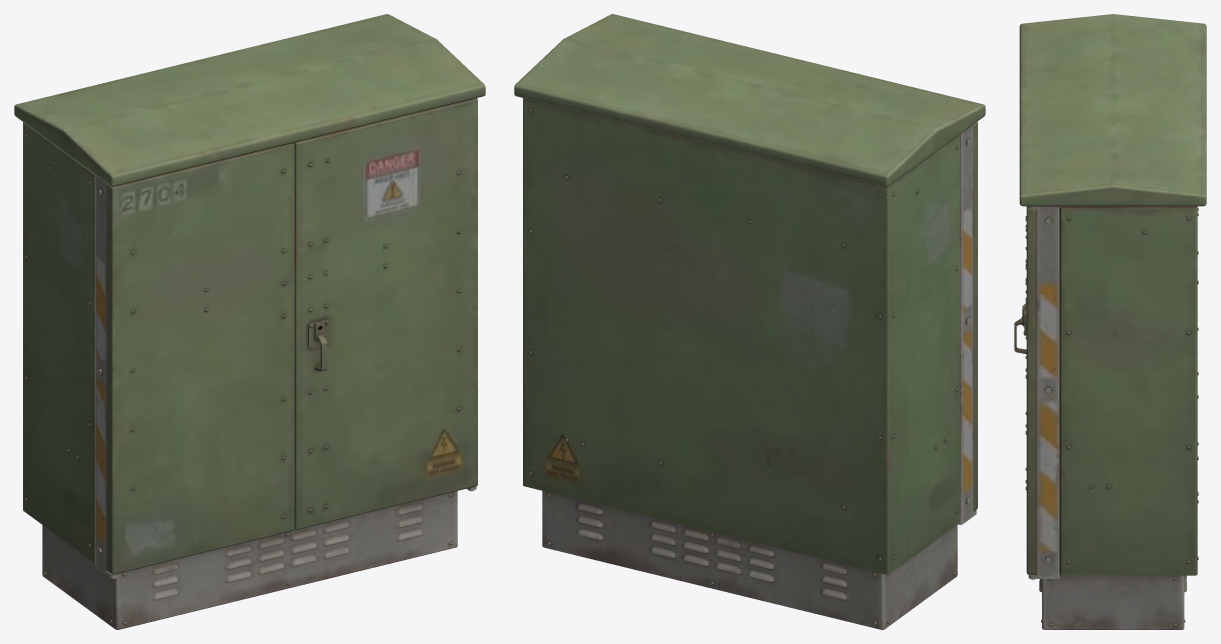
File: utility_box_02.glb
3 views of the same model, side by side, from view 1: azimuth 30°, elevation 25°; view 2: azimuth 150°, elevation 25°; view 3: azimuth 270°, elevation 25° (orthographic). The views are drawn at different scales.
Visible parts, largest first — view 1: utility_box_02; view 2: utility_box_02; view 3: utility_box_02.
Part boxes in pixels (left/top/right/bottom): utility_box_02: left=14, top=14, right=485, bottom=629; utility_box_02: left=514, top=14, right=985, bottom=629; utility_box_02: left=1014, top=14, right=1206, bottom=629.
Bounding box in the file's own units: 0.92 × 1.12 × 0.4319.
1 material, 1 textured.
